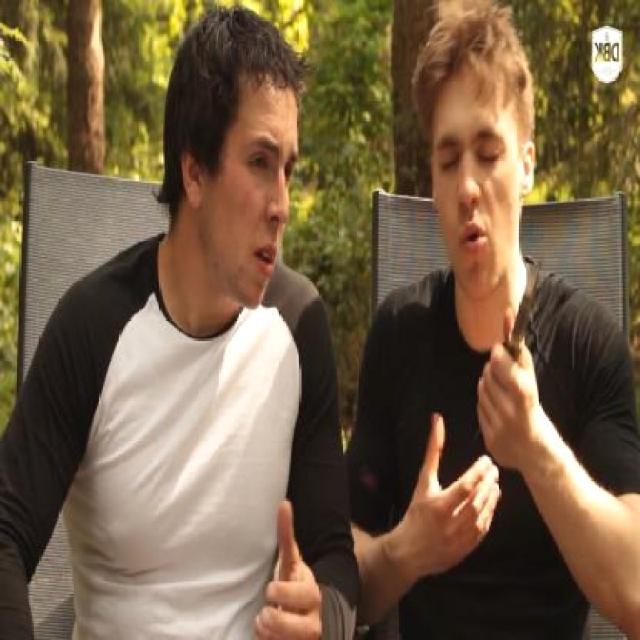knife: (471, 234, 555, 428)
